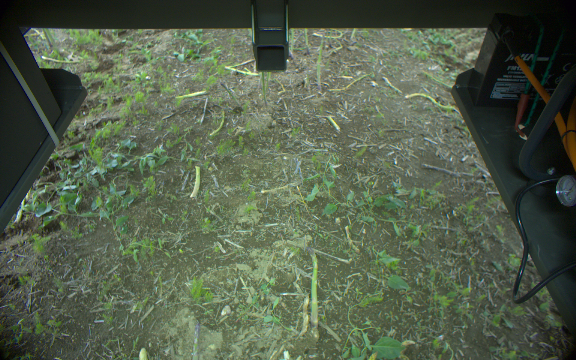aspa: (304, 246, 321, 334), (188, 318, 204, 360), (219, 81, 242, 110), (314, 33, 325, 92), (260, 71, 269, 106), (301, 28, 311, 57), (290, 27, 298, 56), (349, 27, 360, 41)
